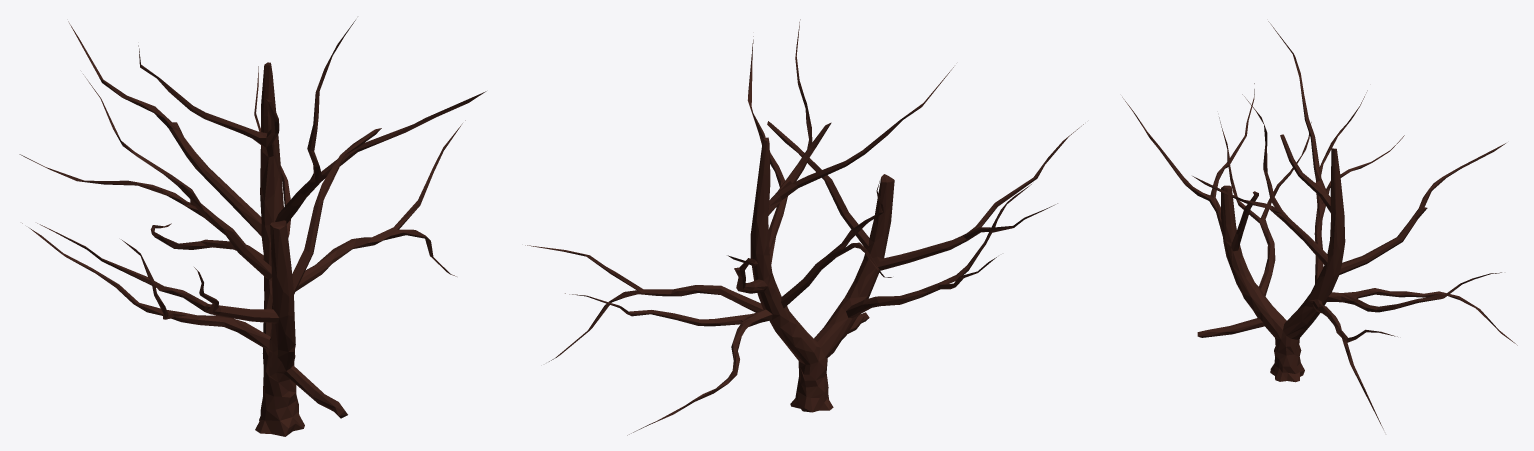
Rendered from dead_tree_f.FBX.
The picture shows the model from 3 angles, left to right: view 1: azimuth 30°, elevation 25°; view 2: azimuth 150°, elevation 25°; view 3: azimuth 270°, elevation 25°; orthographic projection. The views are drawn at different scales.
Visible parts, largest first — view 1: dead_tree_f; view 2: dead_tree_f; view 3: dead_tree_f.
Boxes of the visible parts, x1=… form: dead_tree_f: x1=19, y1=20, x2=486, y2=436; dead_tree_f: x1=525, y1=19, x2=1083, y2=435; dead_tree_f: x1=1122, y1=21, x2=1517, y2=429.
Size of the model in its own units: 1432 by 1116 by 1321.
